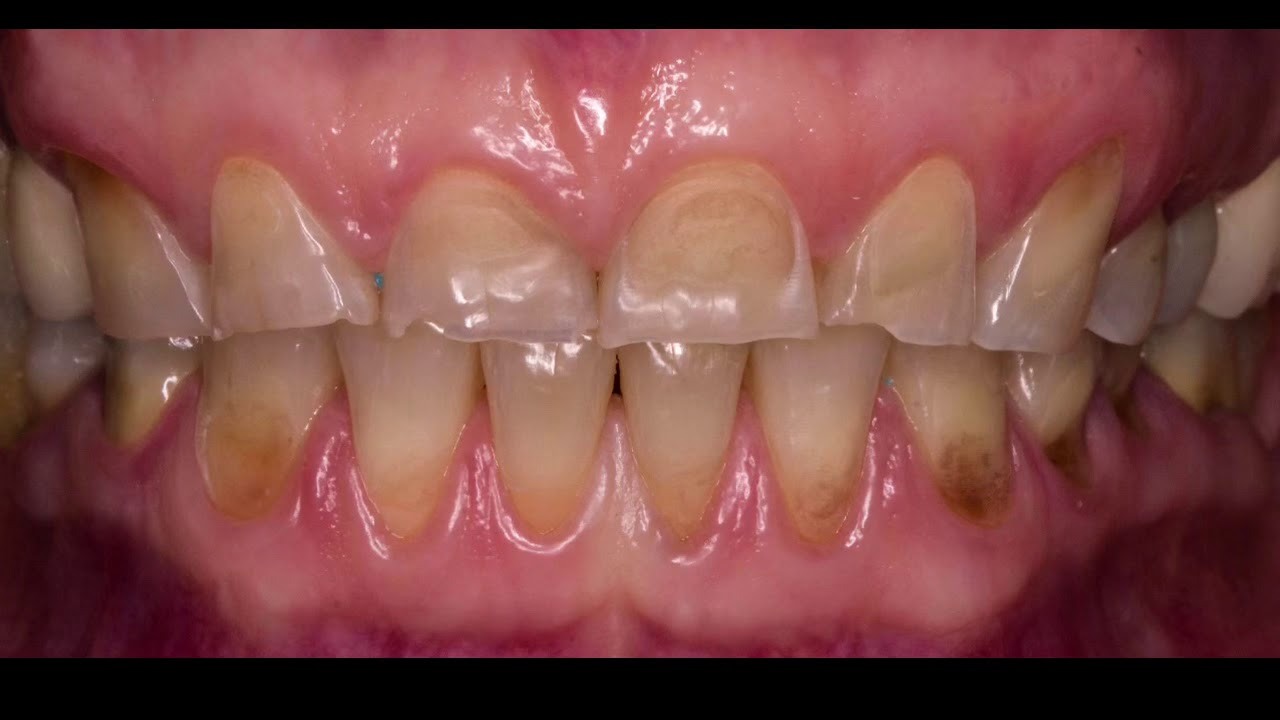LL1BC_decay: (1014, 345, 1109, 492)
LLCI_healthy: (616, 349, 748, 549)
LLC_decay: (881, 342, 1018, 520)
LLLI_decay: (747, 344, 882, 550)
LR1BC_healthy: (105, 338, 202, 457)
LRCI_healthy: (482, 341, 617, 546)
LRC_decay: (194, 340, 333, 530)
LRLI_healthy: (334, 345, 483, 544)
UL1BC_healthy: (1082, 194, 1173, 348)
ULCI_decay: (601, 161, 821, 347)
ULC_healthy: (976, 137, 1118, 349)
ULLI_healthy: (818, 157, 983, 347)
UR1BC_healthy: (9, 148, 96, 320)
URCI_healthy: (383, 165, 601, 344)
URC_healthy: (65, 149, 202, 335)
URLI_healthy: (207, 156, 381, 328)
